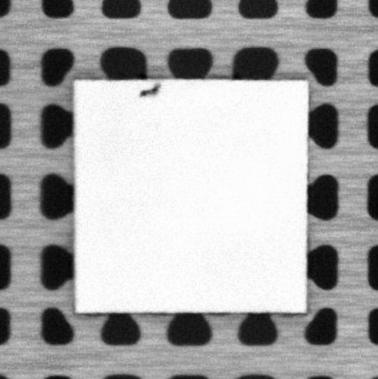DIE_INK: (138, 82, 162, 96)
